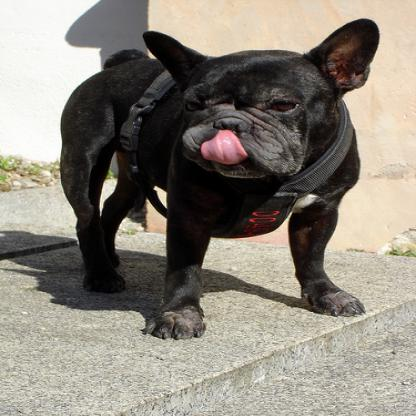dog: (63, 17, 382, 338)
